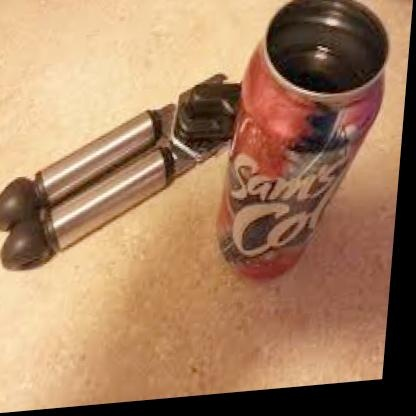trash: (0, 74, 240, 269), (218, 0, 387, 276)
